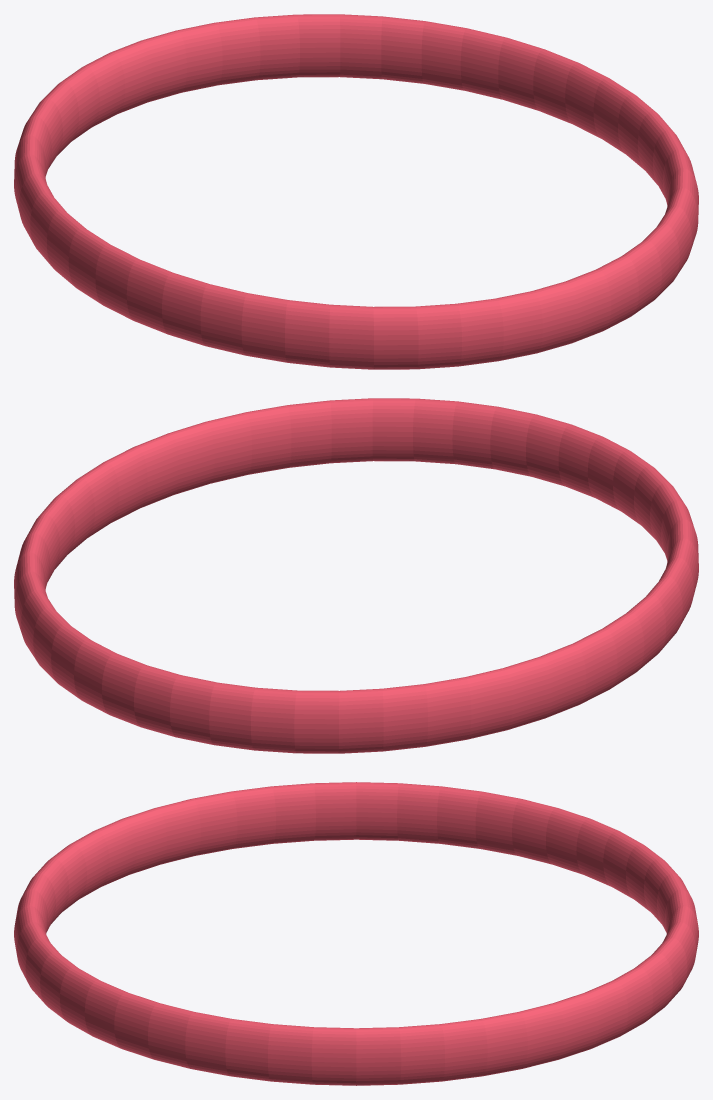
Rendered from Austria.glb.
3 views of the same model, one above another, from view 1: azimuth 30°, elevation 25°; view 2: azimuth 150°, elevation 25°; view 3: azimuth 270°, elevation 25° (orthographic). The views are drawn at different scales.
Visible parts, largest first — view 1: Mesh_Mesh_head_geo.001_lambert2SG.001; view 2: Mesh_Mesh_head_geo.001_lambert2SG.001; view 3: Mesh_Mesh_head_geo.001_lambert2SG.001.
Part boxes in pixels (x1,y1,x2,y2): Mesh_Mesh_head_geo.001_lambert2SG.001: (14,14,698,369); Mesh_Mesh_head_geo.001_lambert2SG.001: (14,398,698,753); Mesh_Mesh_head_geo.001_lambert2SG.001: (14,782,698,1085).
Size of the model in its own units: 0.049 by 0.005 by 0.055.
